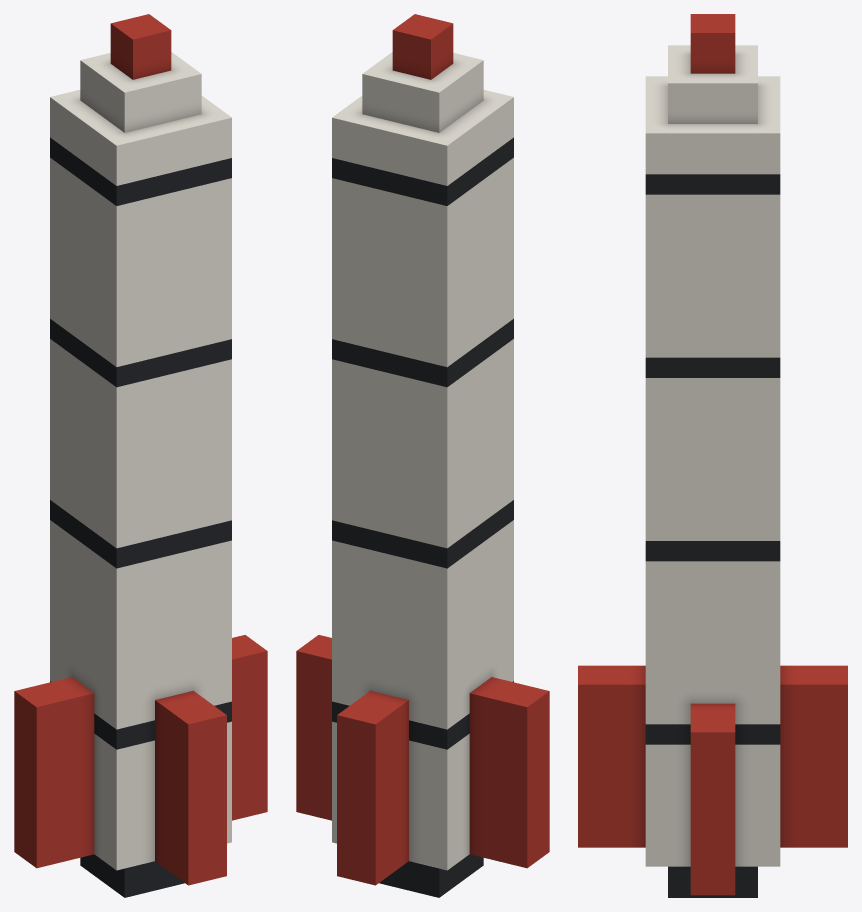
The model's file is m_ship.glb.
3 views of the same model, side by side, from view 1: azimuth 30°, elevation 25°; view 2: azimuth 150°, elevation 25°; view 3: azimuth 270°, elevation 25° (orthographic).
Parts seen in each view (by area): view 1: m_ship_body; view 2: m_ship_body; view 3: m_ship_body.
Boxes of the visible parts, left/top/right/bottom form: m_ship_body: left=14, top=14, right=267, bottom=897; m_ship_body: left=296, top=14, right=549, bottom=897; m_ship_body: left=578, top=14, right=847, bottom=897.
Bounding box in the file's own units: 0.75 × 2.62 × 0.75.
Materials: 1 (1 with a texture image).
